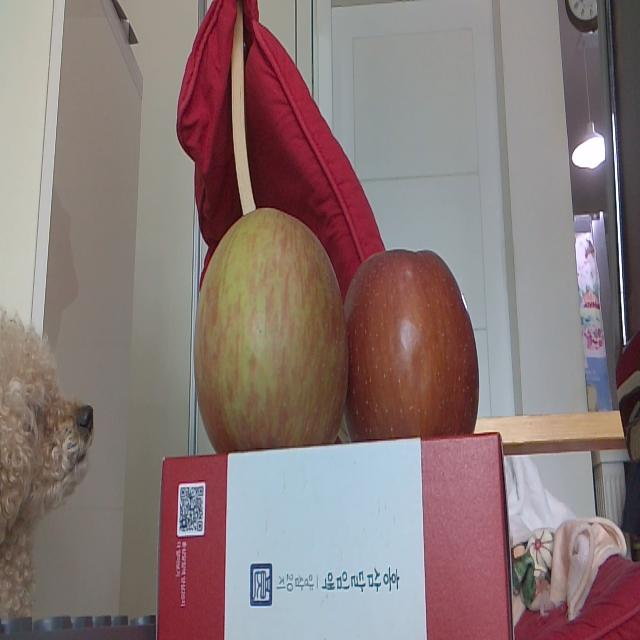apple: (193, 205, 349, 456), (342, 244, 484, 442)
